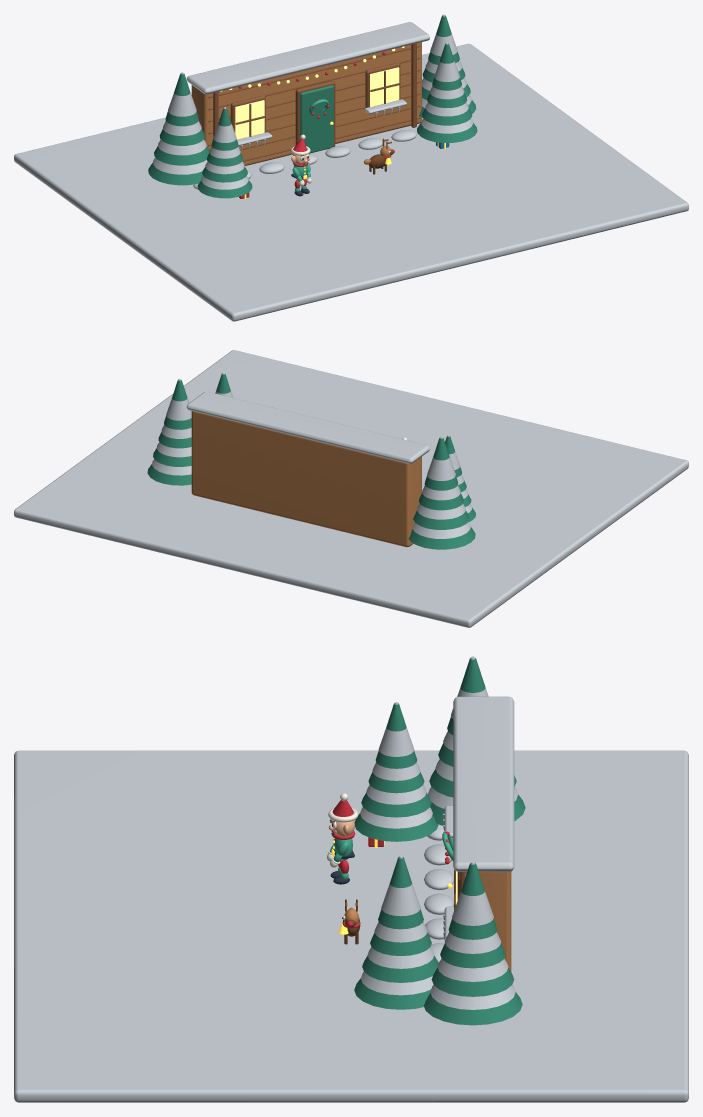
Rendered from chapter-21.glb.
3 views of the same model, one above another, from view 1: azimuth 30°, elevation 25°; view 2: azimuth 150°, elevation 25°; view 3: azimuth 270°, elevation 25° (orthographic). The views are drawn at different scales.
Visible parts, largest first — view 1: Schneeboden, Werkstatt, Schneegesims, Wichteltür, Warmes Fenster, Warmes Fenster.001, Tannenzweig.004, Tannenzweig.008, Tannenzweig.009, Türrahmen, Tannenzweig.011, Schnee.011 (+7 smaller); view 2: Schneeboden, Werkstatt, Schneegesims, Tannenzweig.008, Tannenzweig.009, Tannenzweig.011, Schnee.008, Schnee.011, Tannenzweig.015, Tannenzweig.012, Tannenzweig.010, Schnee.009 (+1 smaller); view 3: Schneeboden, Schneegesims, Werkstatt, Tannenzweig.012, Tannenzweig.013, Tannenzweig.015, Tannenzweig, Schnee.012, Tannenzweig.005, Tannenzweig.004, Schnee.015, Tannenzweig.007 (+15 smaller).
Boxes of the visible parts, left/top/right/bottom form: Schneeboden: left=14, top=43, right=688, bottom=321; Werkstatt: left=191, top=42, right=421, bottom=165; Schneegesims: left=186, top=22, right=429, bottom=94; Wichteltür: left=300, top=85, right=333, bottom=153; Warmes Fenster: left=235, top=100, right=264, bottom=139; Warmes Fenster.001: left=370, top=67, right=399, bottom=106; Tannenzweig.004: left=417, top=122, right=477, bottom=142; Tannenzweig.008: left=148, top=163, right=202, bottom=185; Tannenzweig.009: left=154, top=146, right=209, bottom=165; Türrahmen: left=295, top=81, right=335, bottom=146; Tannenzweig.011: left=165, top=73, right=198, bottom=126; Schnee.011: left=168, top=72, right=196, bottom=116; Schneeboden: left=14, top=350, right=688, bottom=627; Werkstatt: left=191, top=411, right=421, bottom=547; Schneegesims: left=186, top=391, right=429, bottom=463; Tannenzweig.008: left=408, top=527, right=475, bottom=549; Tannenzweig.009: left=413, top=510, right=469, bottom=529; Tannenzweig.011: left=424, top=437, right=458, bottom=490; Schnee.008: left=412, top=522, right=470, bottom=538; Schnee.011: left=427, top=436, right=455, bottom=480; Tannenzweig.015: left=164, top=380, right=191, bottom=429; Tannenzweig.012: left=147, top=464, right=191, bottom=485; Tannenzweig.010: left=419, top=493, right=463, bottom=510; Schnee.009: left=417, top=504, right=465, bottom=519; Schneeboden: left=14, top=750, right=688, bottom=1102; Schneegesims: left=453, top=696, right=514, bottom=871; Werkstatt: left=466, top=871, right=511, bottom=971; Tannenzweig.012: left=424, top=992, right=522, bottom=1025; Tannenzweig.013: left=431, top=968, right=514, bottom=996; Tannenzweig.015: left=448, top=863, right=497, bottom=939; Tannenzweig: left=354, top=813, right=438, bottom=841; Schnee.012: left=430, top=985, right=515, bottom=1009; Tannenzweig.005: left=362, top=955, right=438, bottom=982; Tannenzweig.004: left=354, top=978, right=430, bottom=1009; Schnee.015: left=452, top=861, right=493, bottom=925; Tannenzweig.007: left=378, top=857, right=423, bottom=929.
Bounding box in the file's own units: 18 × 4.39 × 15.
